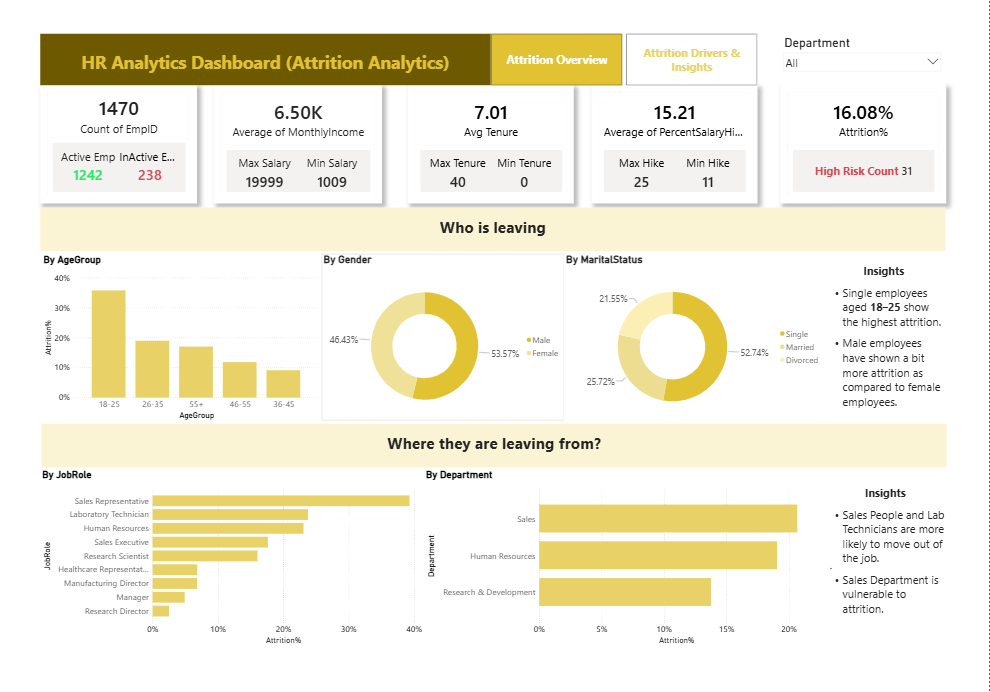

The page's visual inventory and layout, read from the dashboard file:
{"tool":"powerbi","page":{"name":"Attrition Overview","canvas":[2400,1680],"ordinal":0},"visuals":[{"type":"columnChart","title":"By AgeGroup","fields":{"Category":["HR_Analytics.AgeGroup"],"Y":["_Measure.Attrition%"]},"box":[104,614.5,677.8,408.3],"z":0},{"type":"donutChart","title":"By Gender","fields":{"Category":["HR_Analytics.Gender"],"Y":["_Measure.Attrition%"]},"box":[781.2,614.1,588.9,408.3],"z":1000},{"type":"donutChart","title":"By MaritalStatus","fields":{"Y":["_Measure.Attrition%"],"Category":["HR_Analytics.MaritalStatus"]},"box":[1370.1,614.1,630.6,411.1],"z":2000},{"type":"cardVisual","fields":{"Data":["Count(HR_Analytics.EmpID)"]},"box":[100.1,206.3,380,287.5],"z":3000},{"type":"cardVisual","fields":{"Data":["Avg(HR_Analytics.MonthlyIncome)"]},"box":[522.6,206.3,407.5,287.5],"z":4000},{"type":"cardVisual","fields":{"Data":["Avg(HR_Analytics.YearsAtCompany)"]},"box":[990.1,206.3,402.5,287.5],"z":5000},{"type":"cardVisual","fields":{"Data":["Avg(HR_Analytics.PercentSalaryHike)"]},"box":[1435.1,206.3,402.5,287.5],"z":6000},{"type":"cardVisual","fields":{"Data":["_Measure.Attrition%"]},"box":[1892.9,206.9,402.5,287.5],"z":7000},{"type":"textbox","box":[101.2,504.1,2194.4,105.6],"z":8000},{"type":"textbox","box":[104,1026.3,2194.4,105.6],"z":9000},{"type":"clusteredBarChart","title":"By JobRole","fields":{"Category":["HR_Analytics.JobRole"],"Y":["_Measure.Attrition%"]},"box":[100.7,1136.3,930.6,430.6],"z":10000},{"type":"clusteredBarChart","title":"By Department","fields":{"Y":["_Measure.Attrition%"],"Category":["HR_Analytics.Department"]},"box":[1031.2,1136.3,969.4,430.6],"z":11000},{"type":"textbox","box":[100.7,80.8,1091.7,125],"z":12000},{"type":"slicer","fields":{"Values":["HR_Analytics.Department"]},"box":[1892.3,80.8,402.8,125],"z":12001},{"type":"pageNavigator","box":[1195.1,80.8,644.4,125],"z":12003},{"type":"textbox","box":[2000.7,614.1,297.2,411.1],"z":12004},{"type":"textbox","box":[2000.7,1136.3,297.2,430.6],"z":12005}]}

Visuals, with their boxes in screenshot pixels (x1, y1, x2, y2), scaled from the page's 2400x1680 canvas onto the 990x692 screenshot:
"By AgeGroup" columnChart: rect(43, 253, 322, 421)
"By Gender" donutChart: rect(322, 253, 565, 421)
"By MaritalStatus" donutChart: rect(565, 253, 825, 422)
cardVisual - Count(HR_Analytics.EmpID): rect(41, 85, 198, 203)
cardVisual - Avg(HR_Analytics.MonthlyIncome): rect(216, 85, 384, 203)
cardVisual - Avg(HR_Analytics.YearsAtCompany): rect(408, 85, 574, 203)
cardVisual - Avg(HR_Analytics.PercentSalaryHike): rect(592, 85, 758, 203)
cardVisual - _Measure.Attrition%: rect(781, 85, 947, 204)
textbox: rect(42, 208, 947, 251)
textbox: rect(43, 423, 948, 466)
"By JobRole" clusteredBarChart: rect(42, 468, 425, 645)
"By Department" clusteredBarChart: rect(425, 468, 825, 645)
textbox: rect(42, 33, 492, 85)
slicer - HR_Analytics.Department: rect(781, 33, 947, 85)
pageNavigator: rect(493, 33, 759, 85)
textbox: rect(825, 253, 948, 422)
textbox: rect(825, 468, 948, 645)
